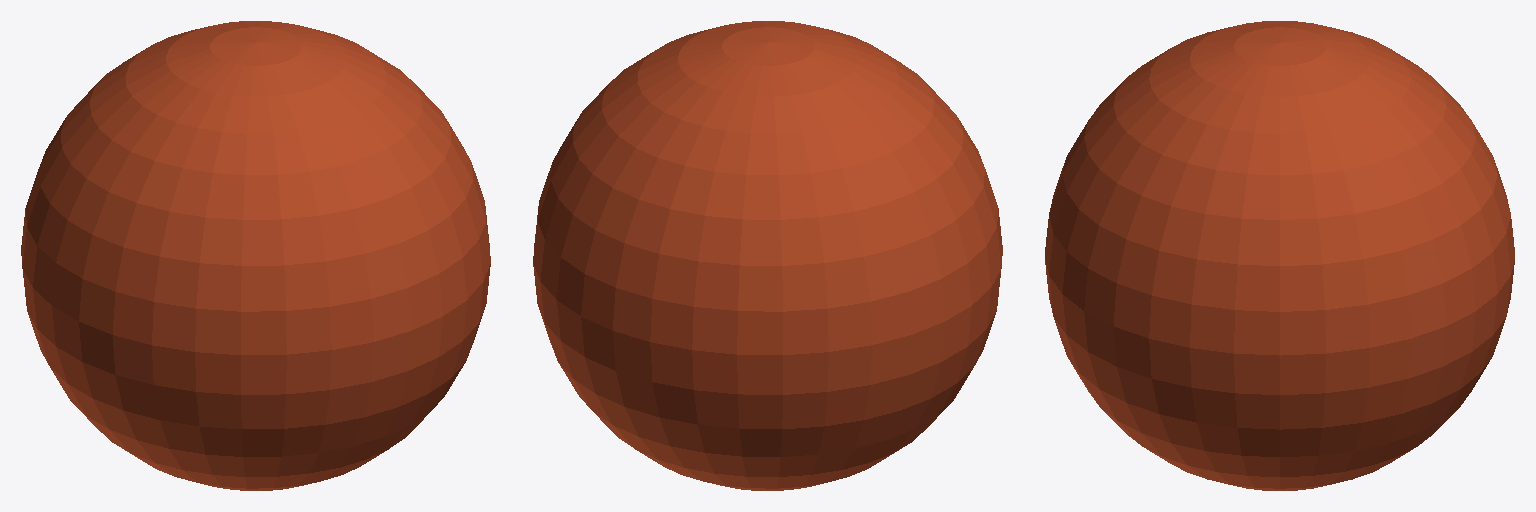
Rendered from coin.obj.
3 renders of one model, left to right at view 1: azimuth 30°, elevation 25°; view 2: azimuth 150°, elevation 25°; view 3: azimuth 270°, elevation 25°, orthographic.
Parts seen in each view (by area): view 1: Sfera; view 2: Sfera; view 3: Sfera.
Part boxes in pixels (x1,y1,x2,y2): Sfera: (21, 21, 490, 490); Sfera: (533, 21, 1002, 490); Sfera: (1045, 21, 1514, 490).
Size of the model in its own units: 2 by 2 by 2.